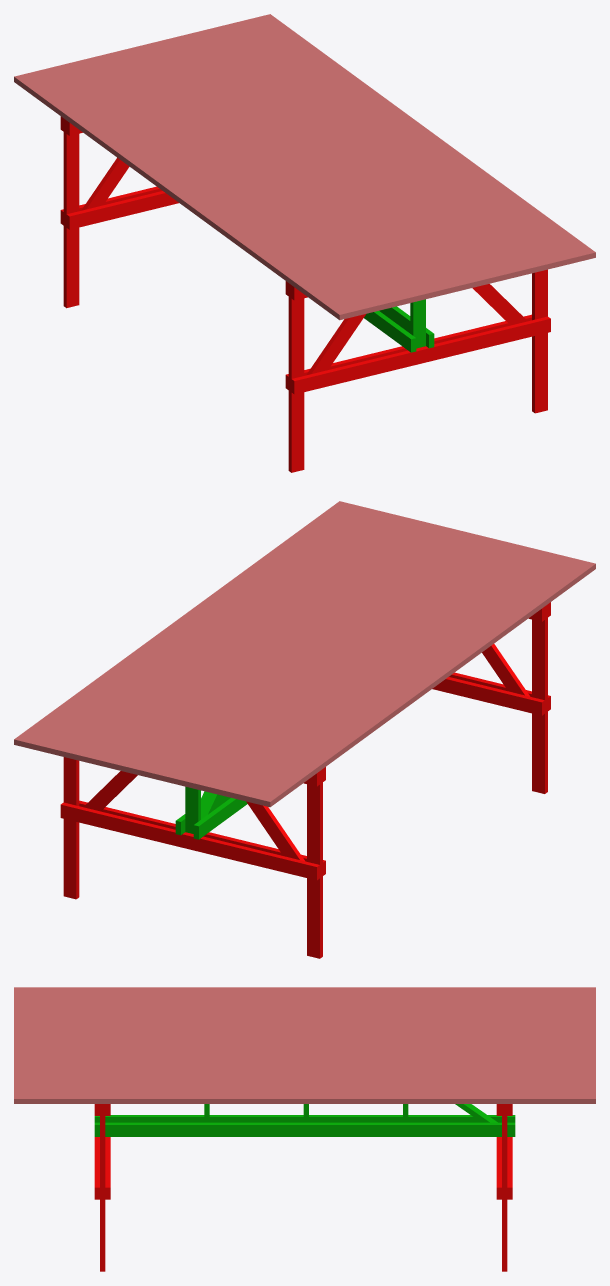
Rendered from result.glb.
The picture shows the model from 3 angles, top to bottom: view 1: azimuth 30°, elevation 25°; view 2: azimuth 150°, elevation 25°; view 3: azimuth 270°, elevation 25°; orthographic projection. The views are drawn at different scales.
Visible parts, largest first — view 1: 56c0824c-ae21-44a6-b9df-d2a080342a91__Box, 8b11b933-2d0d-4d52-a155-20fc20b5f3bd__undefined, bd279ad3-e159-4c9b-ada0-a2172ebb6517__undefined, ce9a6cbd-9282-4eda-9834-ac86340bf47f__undefined, 0a38ec59-c180-4f26-99ef-23ff50a2bbca__undefined, b0667f36-573e-44c1-bb3d-6245ef9cce37__undefined, 1640b6d4-8443-48fd-a544-91dcf38cd3a3__undefined, 1444b7ac-909f-46ef-9039-e4800378c7a5__undefined, 010ef5c5-ab9a-4867-9c9c-740f1e5c4433__undefined, 29eca2f5-a18d-42d1-bc0b-d761e077c7cd__undefined, f2524dfa-1c3c-4b14-aea3-e5690fed2979__undefined, 0faa0024-b57a-403e-b9b6-8efa442d5796__undefined (+19 smaller); view 2: 56c0824c-ae21-44a6-b9df-d2a080342a91__Box, 0a38ec59-c180-4f26-99ef-23ff50a2bbca__undefined, 1444b7ac-909f-46ef-9039-e4800378c7a5__undefined, bd279ad3-e159-4c9b-ada0-a2172ebb6517__undefined, 1640b6d4-8443-48fd-a544-91dcf38cd3a3__undefined, ce9a6cbd-9282-4eda-9834-ac86340bf47f__undefined, 8b11b933-2d0d-4d52-a155-20fc20b5f3bd__undefined, b0667f36-573e-44c1-bb3d-6245ef9cce37__undefined, 29eca2f5-a18d-42d1-bc0b-d761e077c7cd__undefined, cde8ce7d-f6db-4c3a-a558-e5cc9f5edc00__undefined, 029a8959-968e-4077-8bd1-ff75a716ad47__undefined, 010ef5c5-ab9a-4867-9c9c-740f1e5c4433__undefined (+19 smaller); view 3: adec8e35-b624-48e2-9e4f-438ad0ae9ced__undefined, b5f8e49e-2061-4ae1-945c-c78798e6d531__strutH, f2524dfa-1c3c-4b14-aea3-e5690fed2979__undefined, 0a38ec59-c180-4f26-99ef-23ff50a2bbca__undefined, 029a8959-968e-4077-8bd1-ff75a716ad47__undefined, b0667f36-573e-44c1-bb3d-6245ef9cce37__undefined, 1444b7ac-909f-46ef-9039-e4800378c7a5__undefined, 56c0824c-ae21-44a6-b9df-d2a080342a91__Box, 29eca2f5-a18d-42d1-bc0b-d761e077c7cd__undefined, 35f91a93-04e7-4e69-ba88-3950a9abf486__undefined, cde8ce7d-f6db-4c3a-a558-e5cc9f5edc00__undefined, ce9a6cbd-9282-4eda-9834-ac86340bf47f__undefined (+12 smaller).
Part boxes in pixels (<box>): 56c0824c-ae21-44a6-b9df-d2a080342a91__Box: <box>14,73,352,320</box>; 8b11b933-2d0d-4d52-a155-20fc20b5f3bd__undefined: <box>104,51,442,298</box>; bd279ad3-e159-4c9b-ada0-a2172ebb6517__undefined: <box>142,42,480,288</box>; ce9a6cbd-9282-4eda-9834-ac86340bf47f__undefined: <box>78,58,416,304</box>; 0a38ec59-c180-4f26-99ef-23ff50a2bbca__undefined: <box>91,54,429,301</box>; b0667f36-573e-44c1-bb3d-6245ef9cce37__undefined: <box>155,39,493,285</box>; 1640b6d4-8443-48fd-a544-91dcf38cd3a3__undefined: <box>168,36,506,282</box>; 1444b7ac-909f-46ef-9039-e4800378c7a5__undefined: <box>219,23,557,269</box>; 010ef5c5-ab9a-4867-9c9c-740f1e5c4433__undefined: <box>232,20,570,266</box>; 29eca2f5-a18d-42d1-bc0b-d761e077c7cd__undefined: <box>27,70,365,316</box>; f2524dfa-1c3c-4b14-aea3-e5690fed2979__undefined: <box>65,61,403,307</box>; 0faa0024-b57a-403e-b9b6-8efa442d5796__undefined: <box>245,17,583,263</box>; 56c0824c-ae21-44a6-b9df-d2a080342a91__Box: <box>257,560,595,807</box>; 0a38ec59-c180-4f26-99ef-23ff50a2bbca__undefined: <box>180,542,518,788</box>; 1444b7ac-909f-46ef-9039-e4800378c7a5__undefined: <box>52,510,390,756</box>; bd279ad3-e159-4c9b-ada0-a2172ebb6517__undefined: <box>129,529,467,775</box>; 1640b6d4-8443-48fd-a544-91dcf38cd3a3__undefined: <box>103,523,441,769</box>; ce9a6cbd-9282-4eda-9834-ac86340bf47f__undefined: <box>193,545,531,791</box>; 8b11b933-2d0d-4d52-a155-20fc20b5f3bd__undefined: <box>167,538,505,785</box>; b0667f36-573e-44c1-bb3d-6245ef9cce37__undefined: <box>116,526,454,772</box>; 29eca2f5-a18d-42d1-bc0b-d761e077c7cd__undefined: <box>244,557,582,803</box>; cde8ce7d-f6db-4c3a-a558-e5cc9f5edc00__undefined: <box>219,551,556,797</box>; 029a8959-968e-4077-8bd1-ff75a716ad47__undefined: <box>142,532,480,778</box>; 010ef5c5-ab9a-4867-9c9c-740f1e5c4433__undefined: <box>39,507,377,753</box>; adec8e35-b624-48e2-9e4f-438ad0ae9ced__undefined: <box>14,1093,595,1103</box>; b5f8e49e-2061-4ae1-945c-c78798e6d531__strutH: <box>94,1122,515,1136</box>; f2524dfa-1c3c-4b14-aea3-e5690fed2979__undefined: <box>14,1009,595,1015</box>; 0a38ec59-c180-4f26-99ef-23ff50a2bbca__undefined: <box>14,1020,595,1026</box>; 029a8959-968e-4077-8bd1-ff75a716ad47__undefined: <box>14,1037,595,1043</box>; b0667f36-573e-44c1-bb3d-6245ef9cce37__undefined: <box>14,1048,595,1054</box>; 1444b7ac-909f-46ef-9039-e4800378c7a5__undefined: <box>14,1076,595,1082</box>; 56c0824c-ae21-44a6-b9df-d2a080342a91__Box: <box>14,987,595,992</box>; 29eca2f5-a18d-42d1-bc0b-d761e077c7cd__undefined: <box>14,993,595,998</box>; 35f91a93-04e7-4e69-ba88-3950a9abf486__undefined: <box>14,998,595,1003</box>; cde8ce7d-f6db-4c3a-a558-e5cc9f5edc00__undefined: <box>14,1004,595,1009</box>; ce9a6cbd-9282-4eda-9834-ac86340bf47f__undefined: <box>14,1015,595,1020</box>.
Bounding box in the file's own units: 1000 × 720 × 2200.
